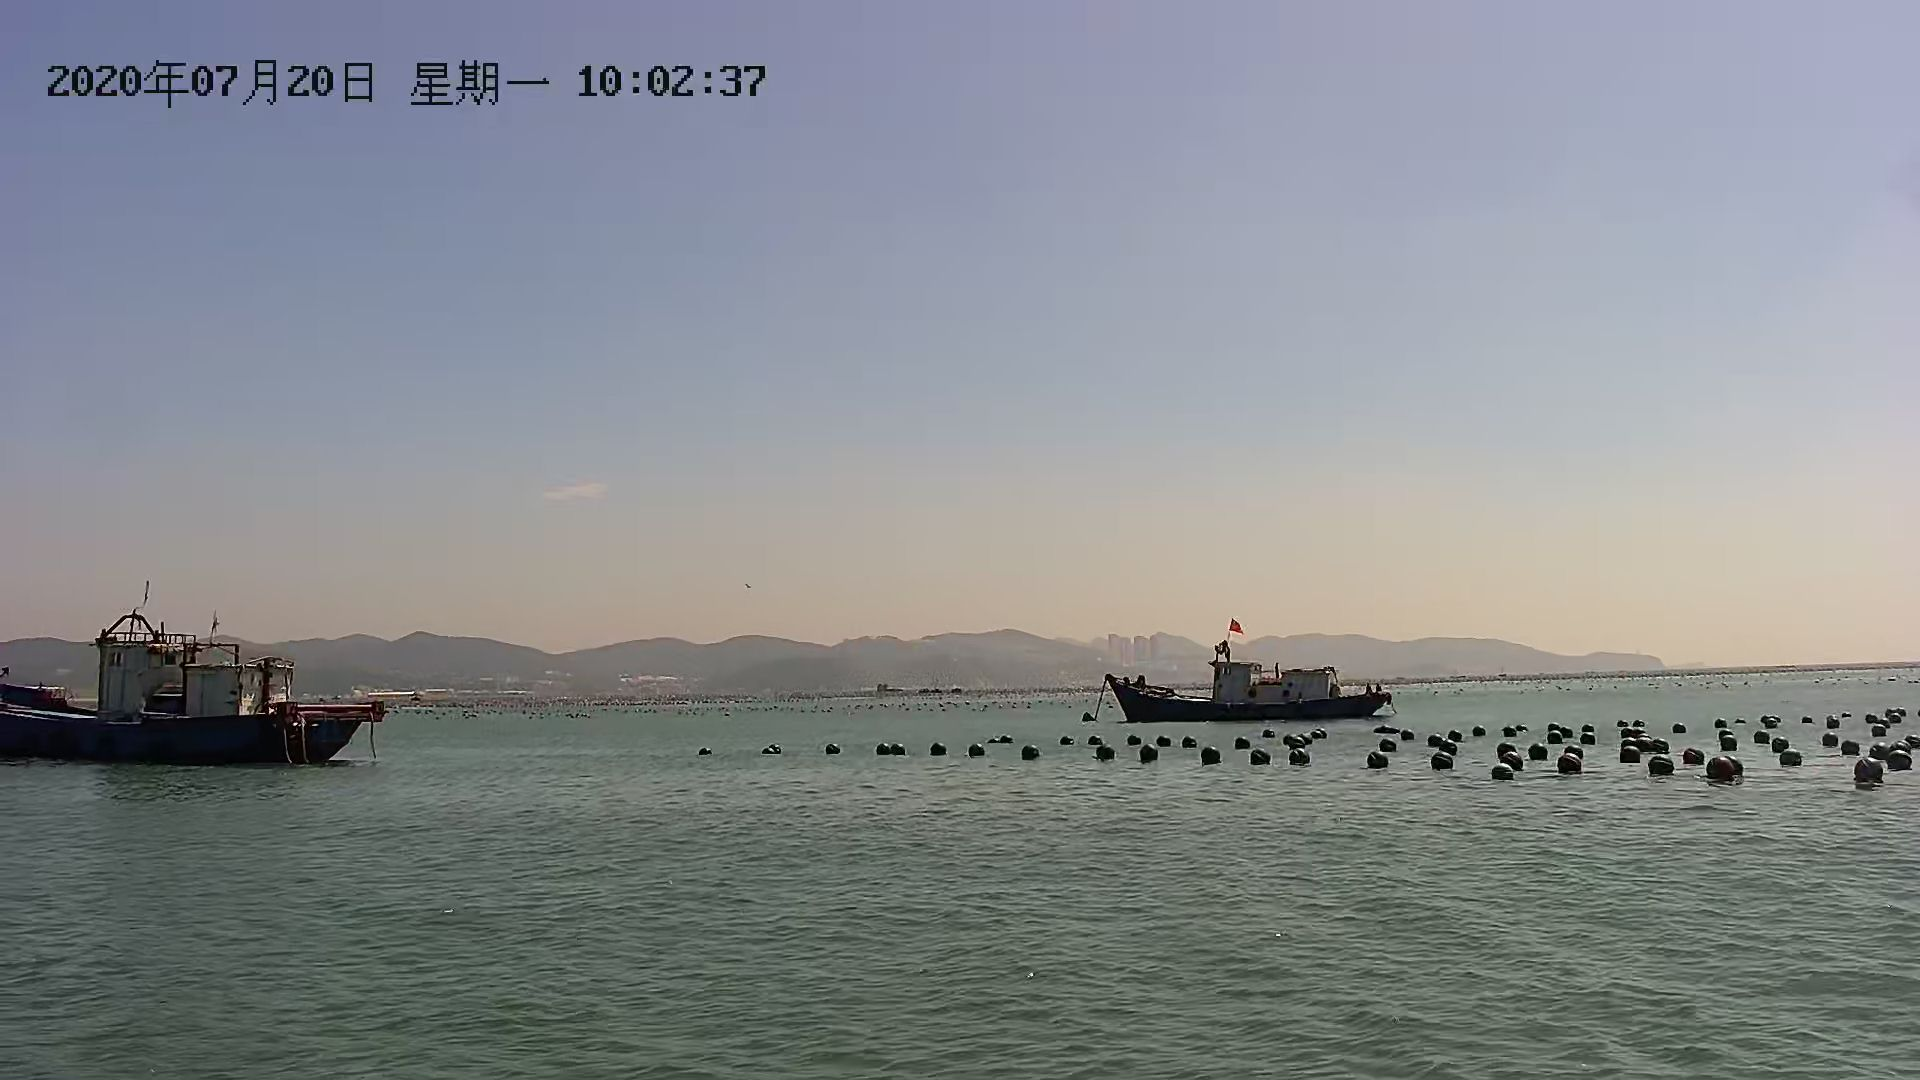ball: (1844, 753, 1886, 793), (1361, 750, 1399, 771), (1706, 756, 1731, 787), (1778, 742, 1807, 767), (1015, 740, 1044, 764), (1555, 750, 1585, 773), (1486, 760, 1518, 781), (1286, 746, 1312, 771), (1088, 745, 1120, 765), (1247, 748, 1273, 770), (1196, 741, 1221, 764), (1138, 742, 1159, 767), (1648, 758, 1673, 778), (1429, 754, 1455, 771)
ship: (1, 585, 382, 775), (1068, 636, 1404, 731)
